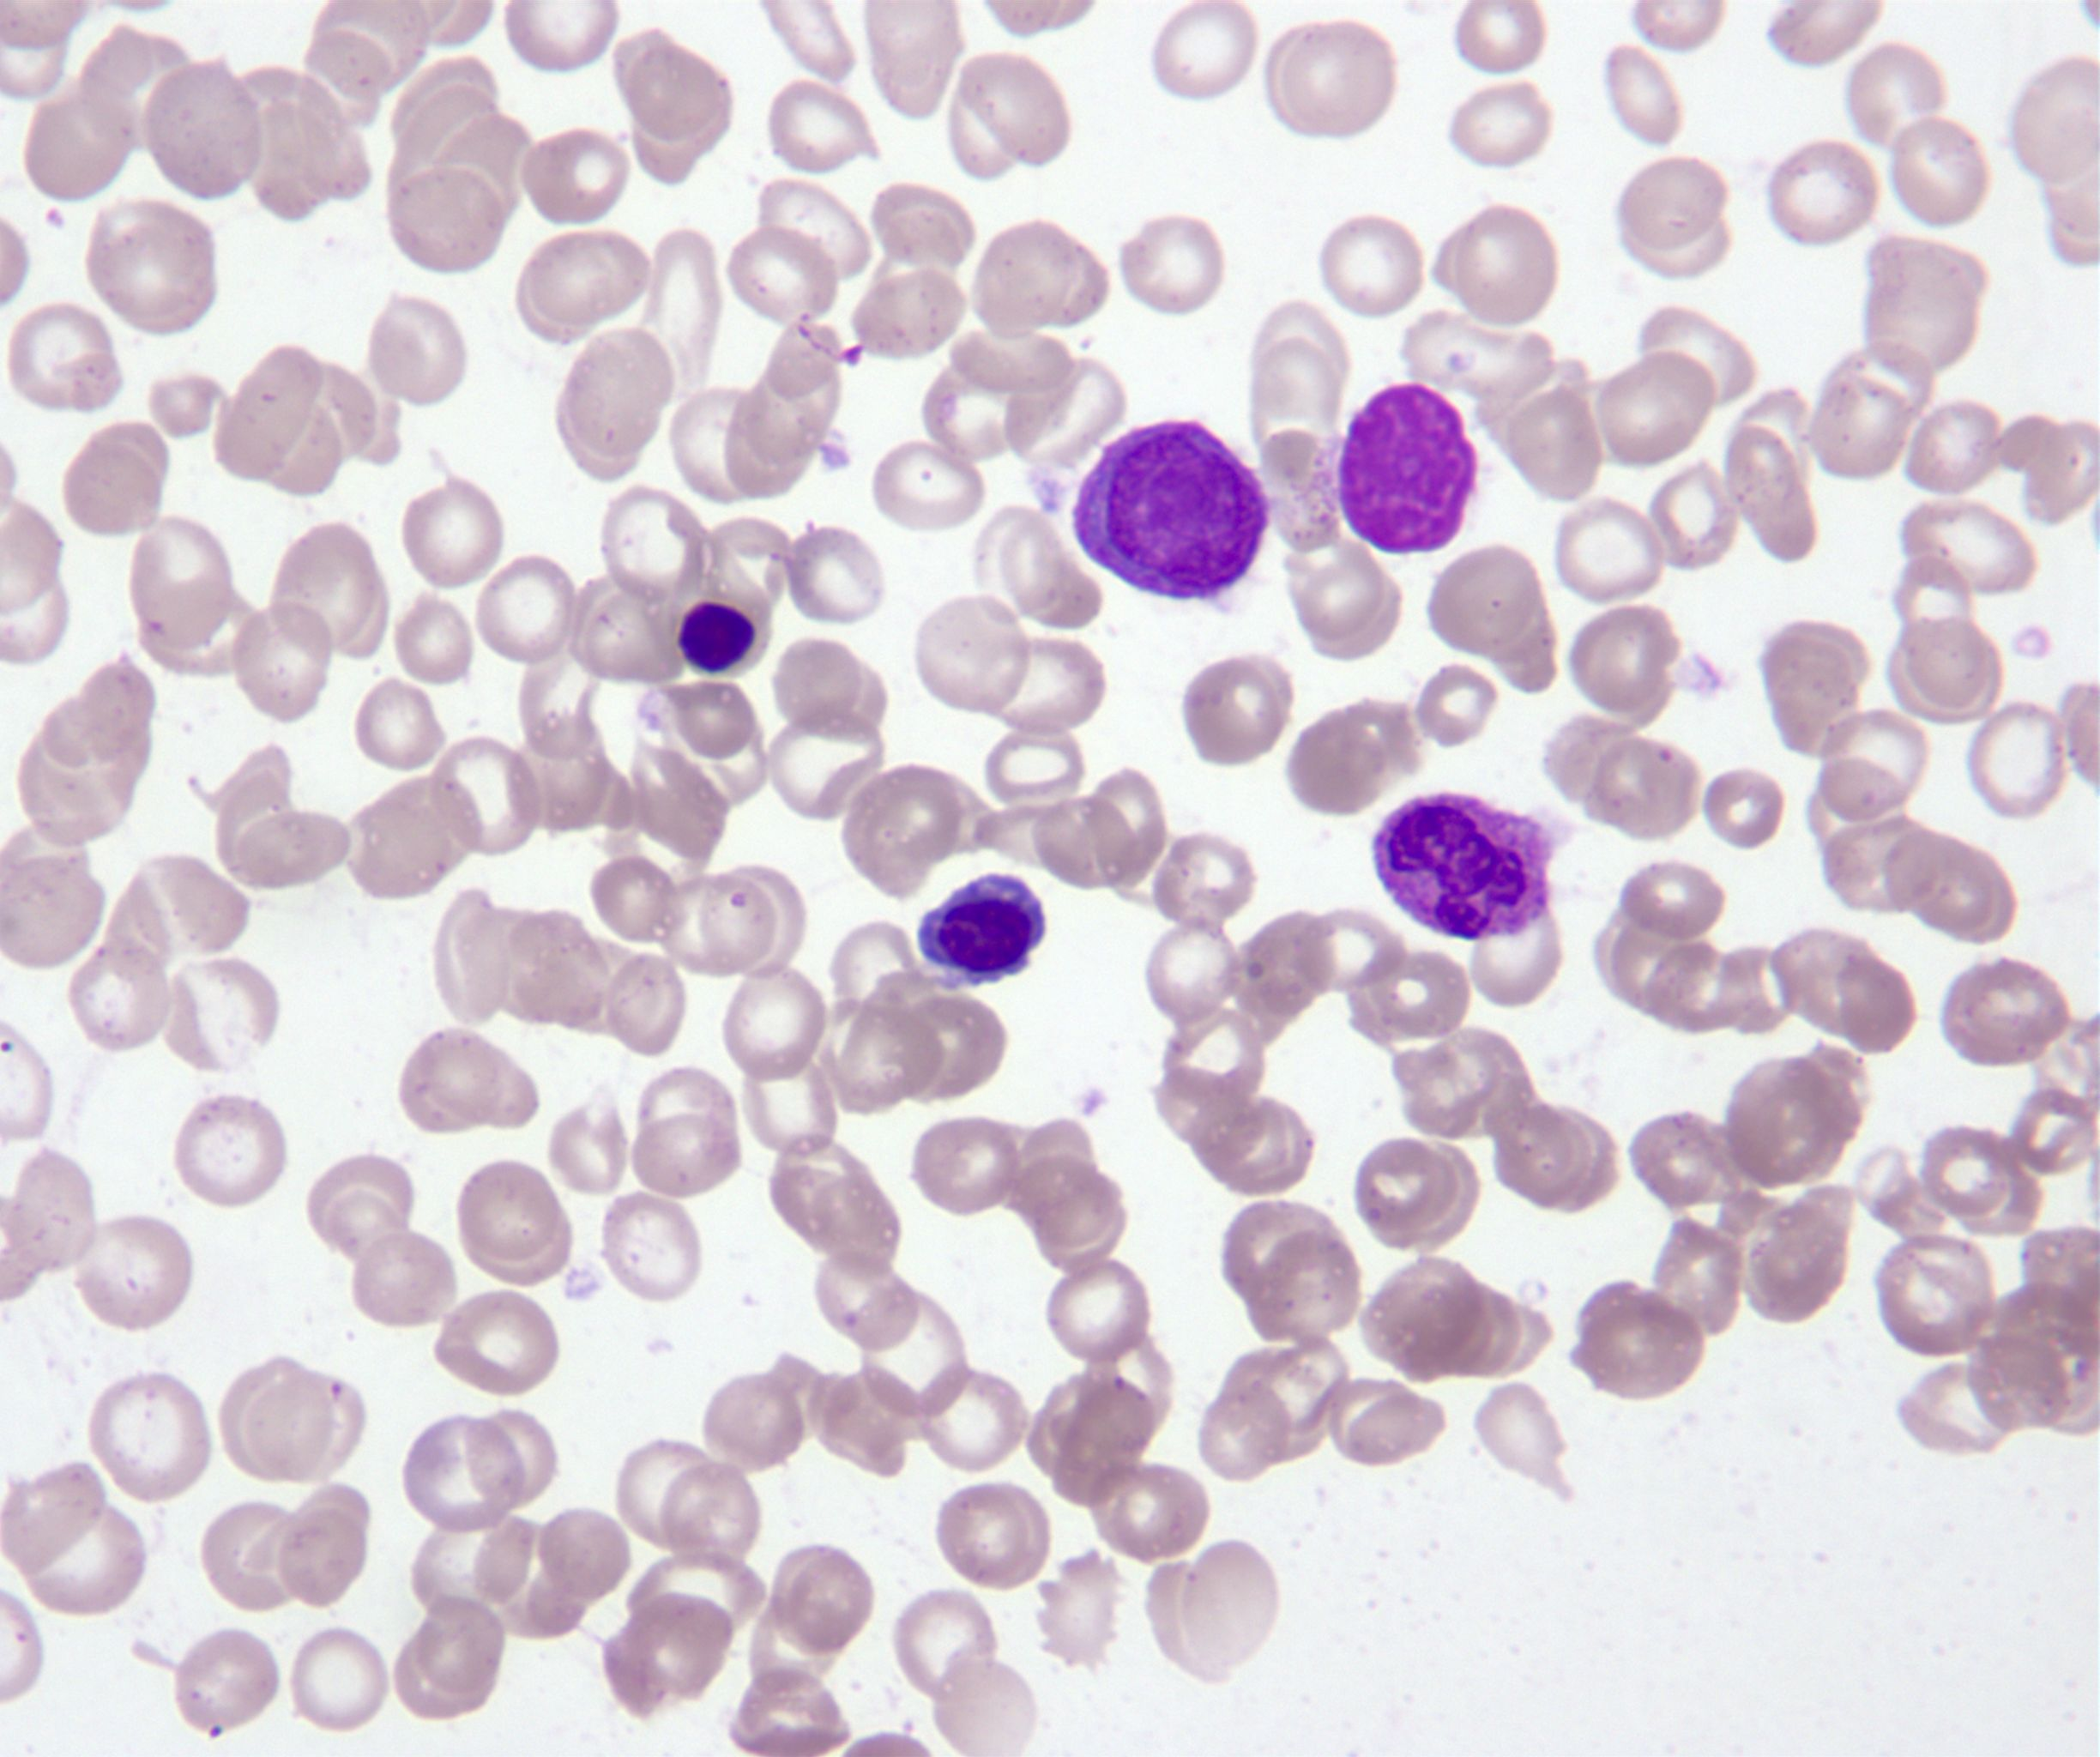24: (919, 876, 1047, 986), (654, 571, 774, 682)
42: (1073, 420, 1266, 600)
6: (1374, 792, 1552, 940)
x: (1340, 382, 1477, 553)
